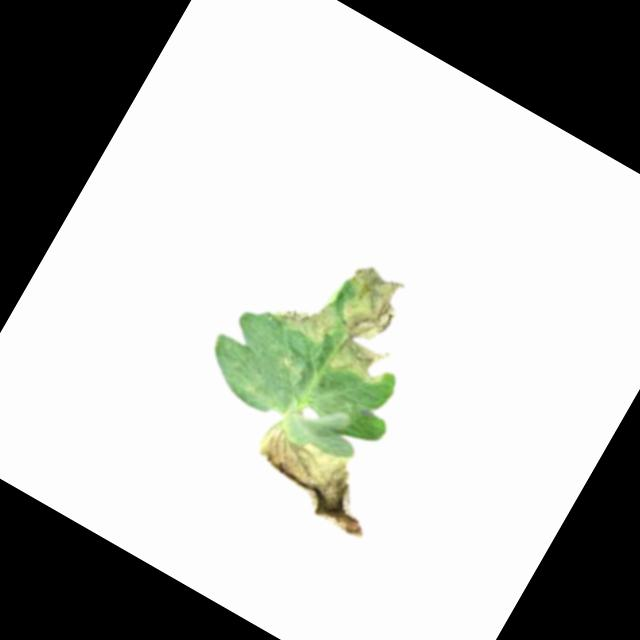Late_blight: (256, 230, 434, 396), (240, 421, 394, 549)
